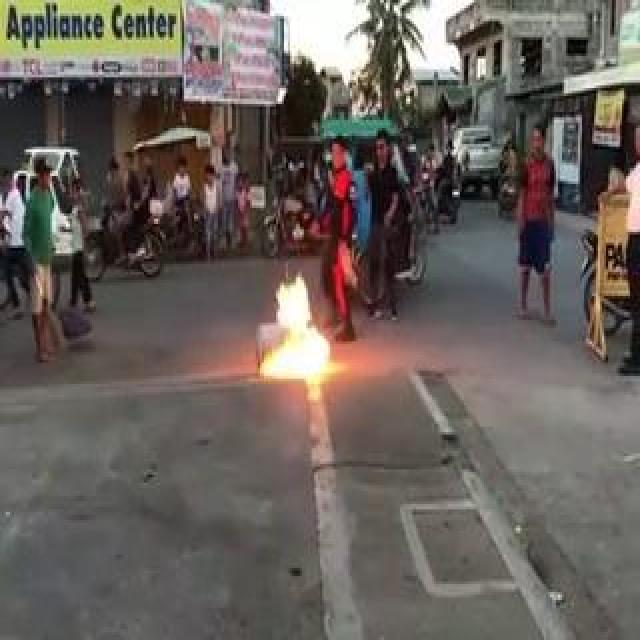Fire: (230, 222, 304, 382)
